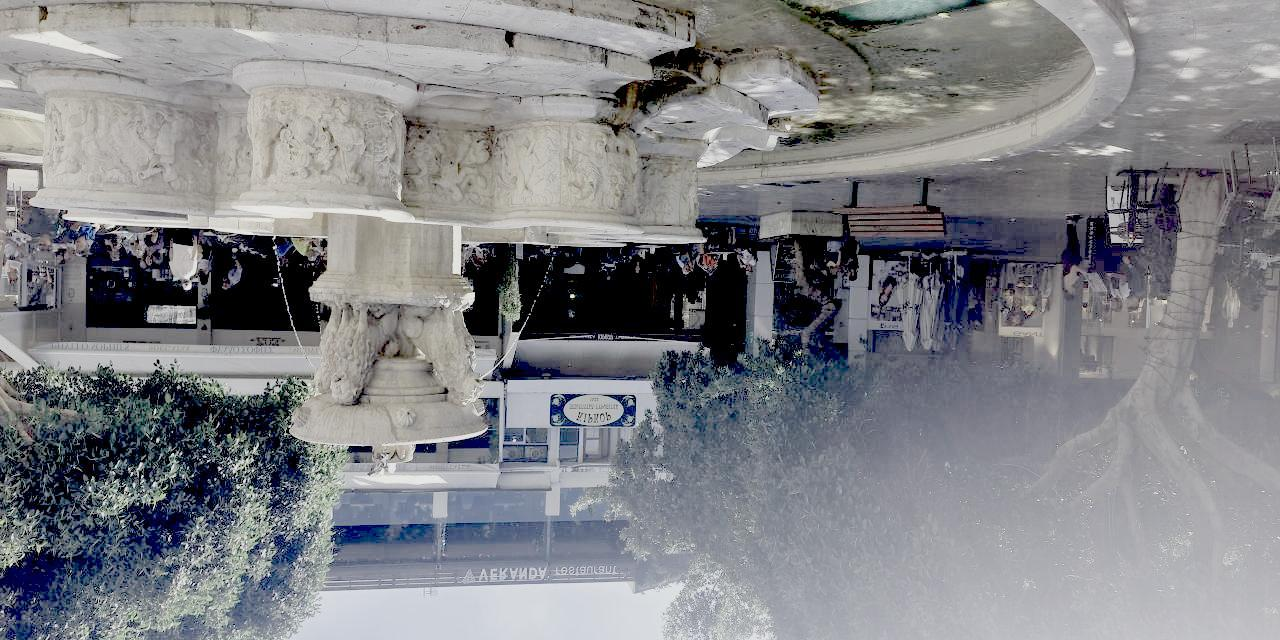Liontaria: (35, 61, 706, 459)
